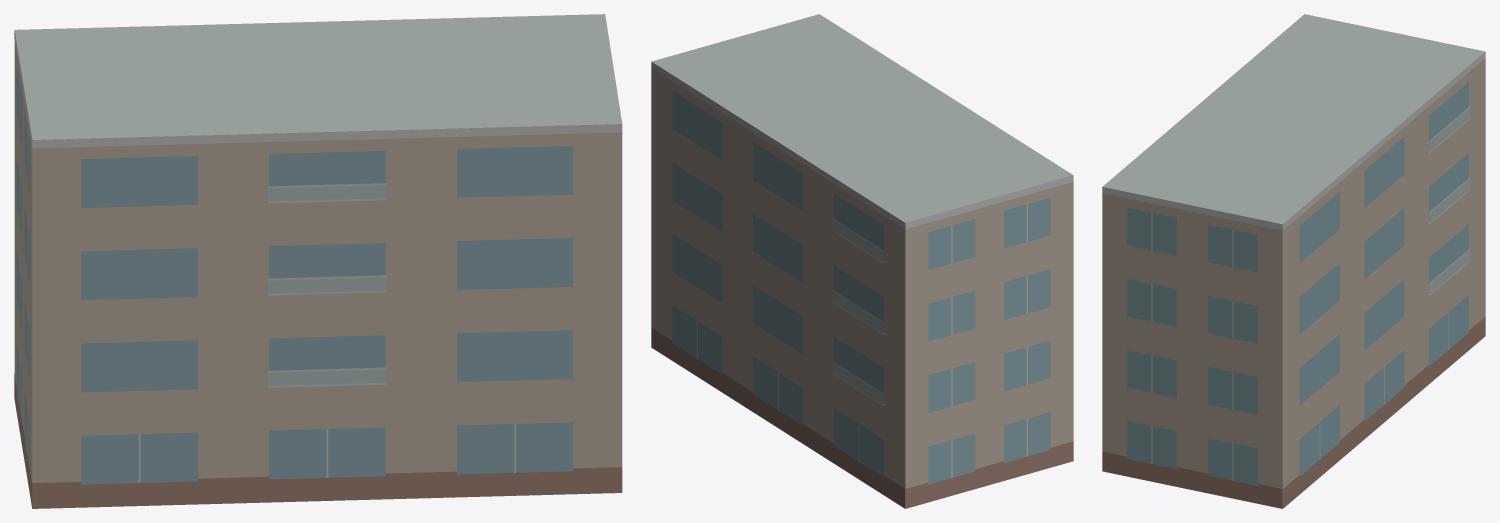
Rendered from survey-upis-32853525.glb.
3 renders of one model, left to right at view 1: azimuth 30°, elevation 25°; view 2: azimuth 150°, elevation 25°; view 3: azimuth 270°, elevation 25°, orthographic. The views are drawn at different scales.
Visible parts, largest first — view 1: survey-upis-32853525.tmp; view 2: survey-upis-32853525.tmp; view 3: survey-upis-32853525.tmp.
Part boxes in pixels (bbox=[...]): survey-upis-32853525.tmp: bbox=[14, 14, 622, 508]; survey-upis-32853525.tmp: bbox=[651, 14, 1073, 508]; survey-upis-32853525.tmp: bbox=[1102, 14, 1485, 508].
Bounding box in the file's own units: 16.97 × 10.7 × 13.07.
